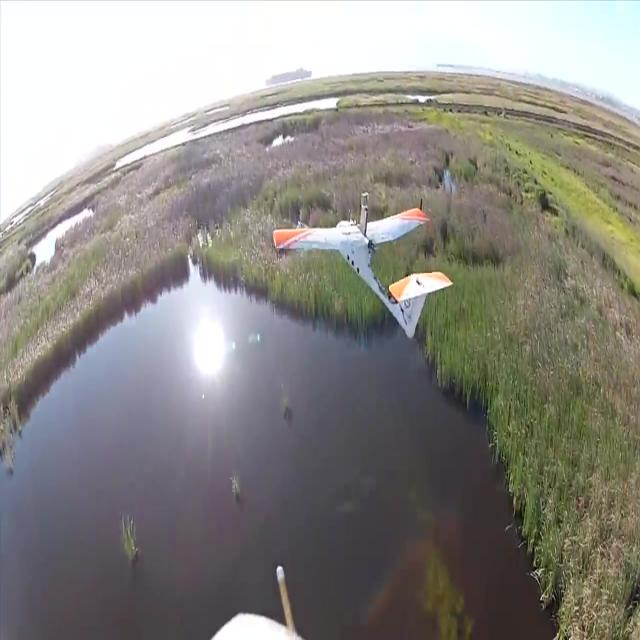iha: (271, 184, 454, 334)
